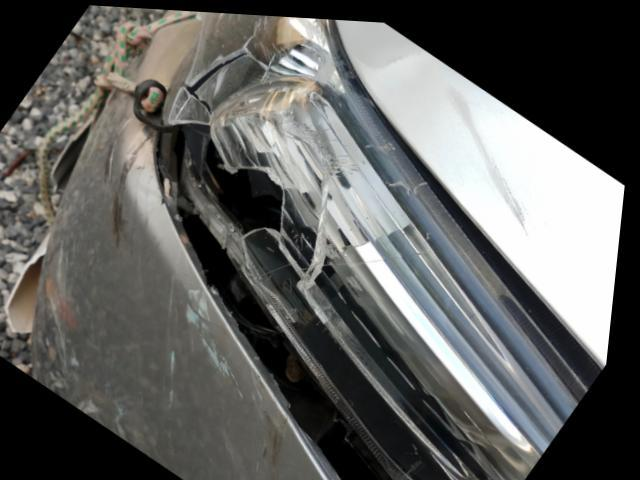dislocated part: (11, 126, 360, 480)
lamp broken: (162, 10, 610, 480)
scratch: (166, 257, 300, 480), (437, 73, 538, 231), (99, 123, 165, 250)
